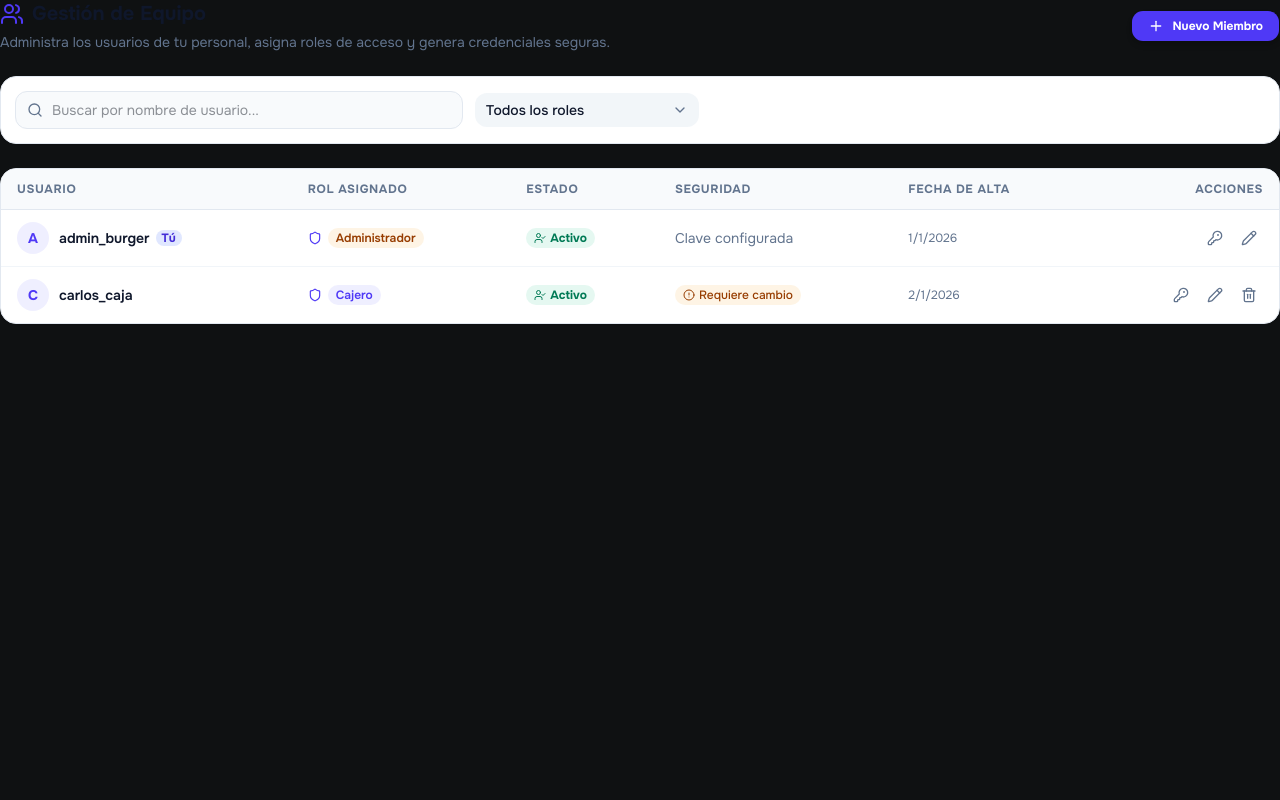
Test: TeamManager Component (TDD) › uses the modern select for the create-member role with name and description as separate lines
Expected: the text "carlos_caja" is shown, [59, 285, 133, 305]
Click the button "Nuevo Miembro": (1206, 26) [1131, 10, 1279, 42]
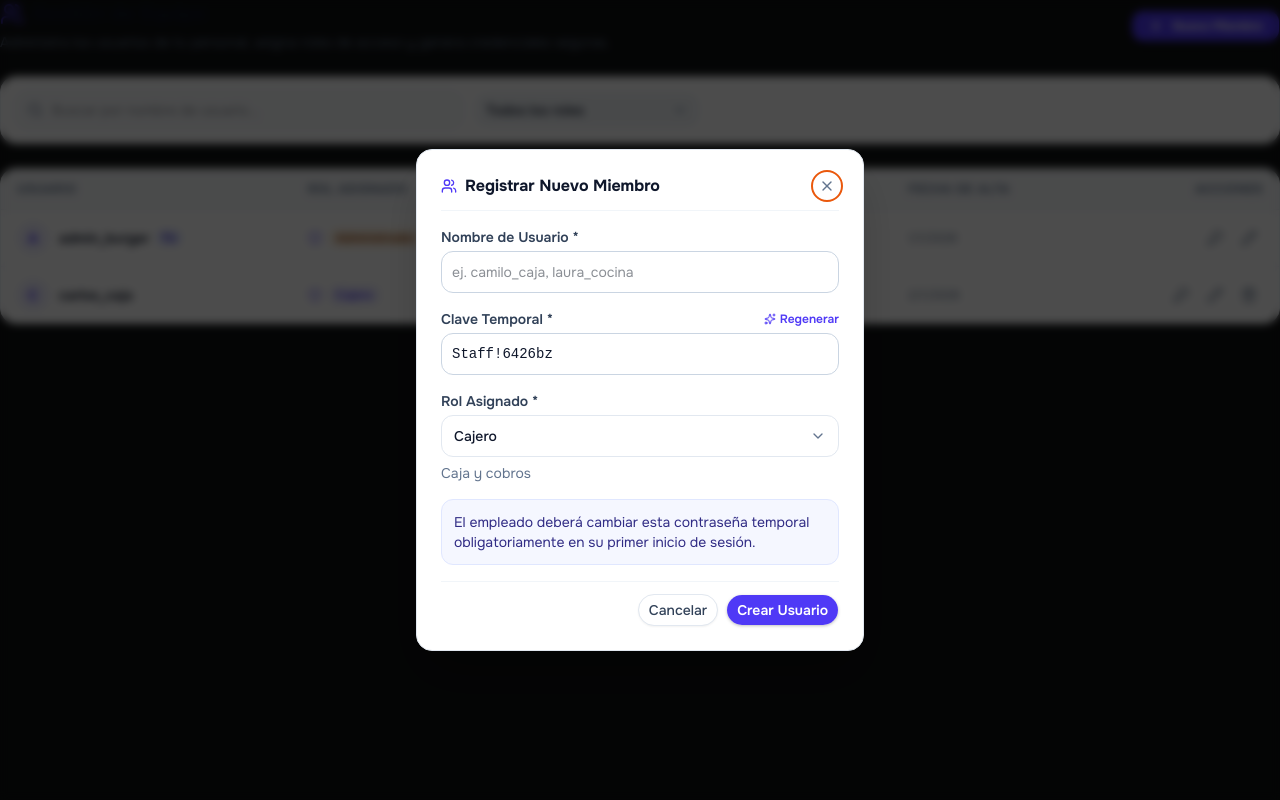
Now the button with test id "create-role-select-trigger" reads "Cajero"
Now the text "Rol Asignado *" is shown, box [441, 392, 538, 410]
Click the button with test id "create-role-select-trigger": (475, 436) [441, 415, 839, 457]
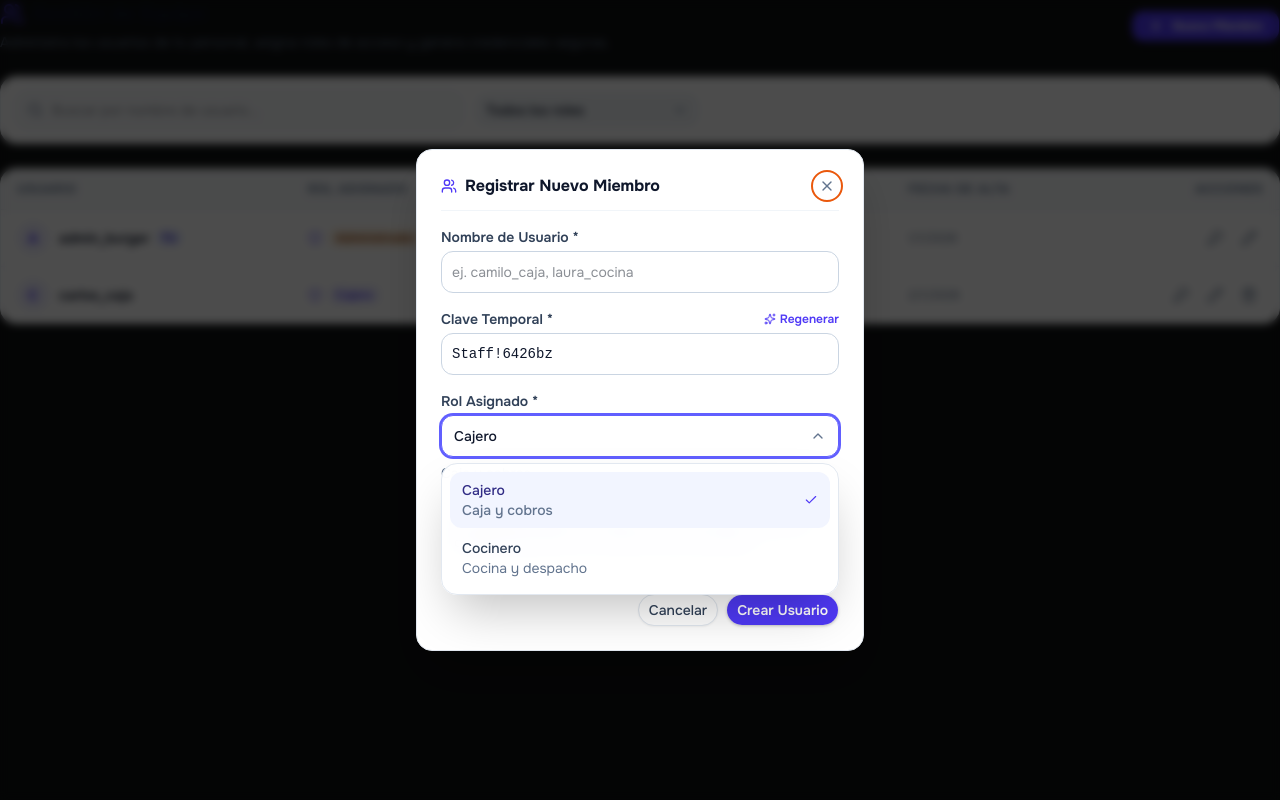
Now the element with test id "create-role-select-menu" shows "Caja y cobros", box [450, 472, 830, 528]
Now the element with test id "create-role-select-menu" shows "Cocina y despacho"
Click the option "Cocinero Cocina y despacho": (492, 548) [450, 530, 830, 586]
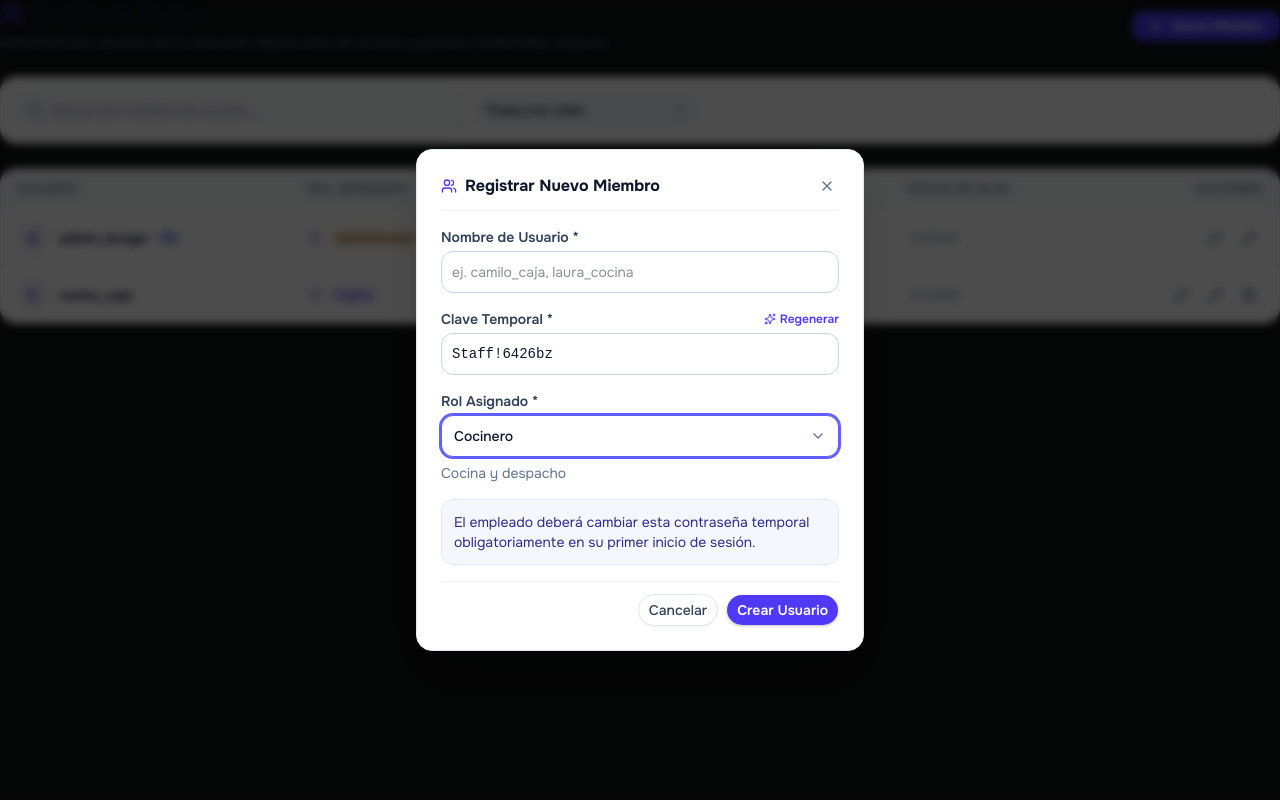
Now the label with id "create-role-select" holds "role-cook", box [441, 392, 538, 410]
Now the button with test id "create-role-select-trigger" reads "Cocinero", box [441, 415, 839, 457]
